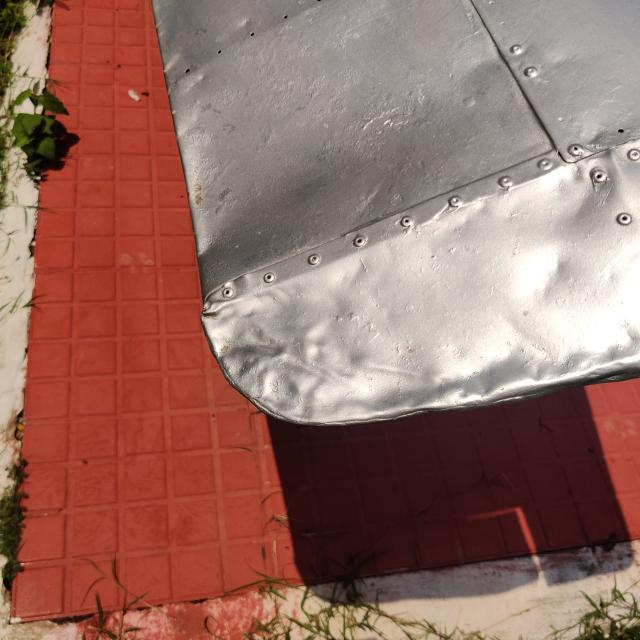dent: (360, 308, 640, 426), (198, 301, 347, 429), (550, 145, 632, 239), (506, 232, 578, 314)
